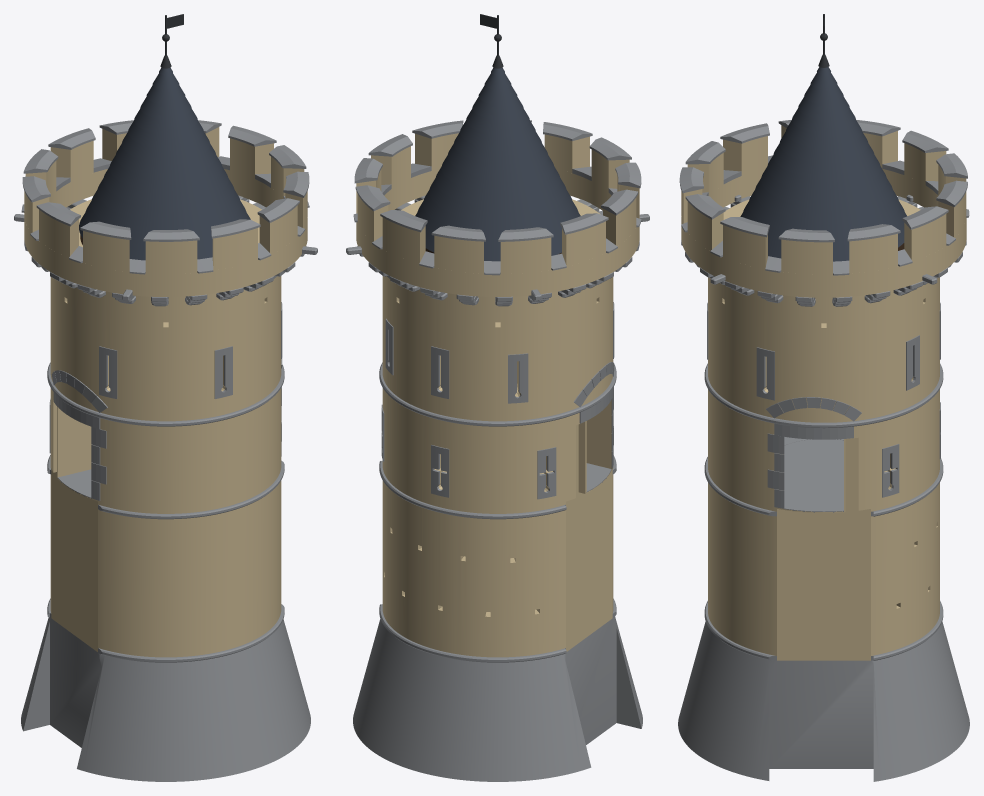
File: g6-gate-tower.glb
3 views of the same model, side by side, from view 1: azimuth 30°, elevation 25°; view 2: azimuth 150°, elevation 25°; view 3: azimuth 270°, elevation 25° (orthographic).
Visible parts, largest first — view 1: Mesh_GateTower_ck-limestone-ashlar, Mesh_GateTower_ck-rubble, Mesh_GateTower_ck-granite-ashlar, Mesh_GateTower_ck-slate; view 2: Mesh_GateTower_ck-limestone-ashlar, Mesh_GateTower_ck-rubble, Mesh_GateTower_ck-granite-ashlar, Mesh_GateTower_ck-slate; view 3: Mesh_GateTower_ck-limestone-ashlar, Mesh_GateTower_ck-rubble, Mesh_GateTower_ck-granite-ashlar, Mesh_GateTower_ck-slate.
Part boxes in pixels (x1,y1,x2,y2): Mesh_GateTower_ck-limestone-ashlar: (24, 127, 307, 657); Mesh_GateTower_ck-rubble: (21, 617, 310, 781); Mesh_GateTower_ck-granite-ashlar: (14, 120, 317, 662); Mesh_GateTower_ck-slate: (79, 67, 250, 260); Mesh_GateTower_ck-limestone-ashlar: (356, 133, 639, 657); Mesh_GateTower_ck-rubble: (353, 617, 642, 781); Mesh_GateTower_ck-granite-ashlar: (346, 120, 649, 662); Mesh_GateTower_ck-slate: (415, 67, 580, 261); Mesh_GateTower_ck-limestone-ashlar: (681, 125, 966, 660); Mesh_GateTower_ck-rubble: (678, 622, 969, 781); Mesh_GateTower_ck-granite-ashlar: (679, 120, 969, 660); Mesh_GateTower_ck-slate: (740, 67, 906, 261).
Bounding box in the file's own units: 8.74 × 23.6 × 8.8.
